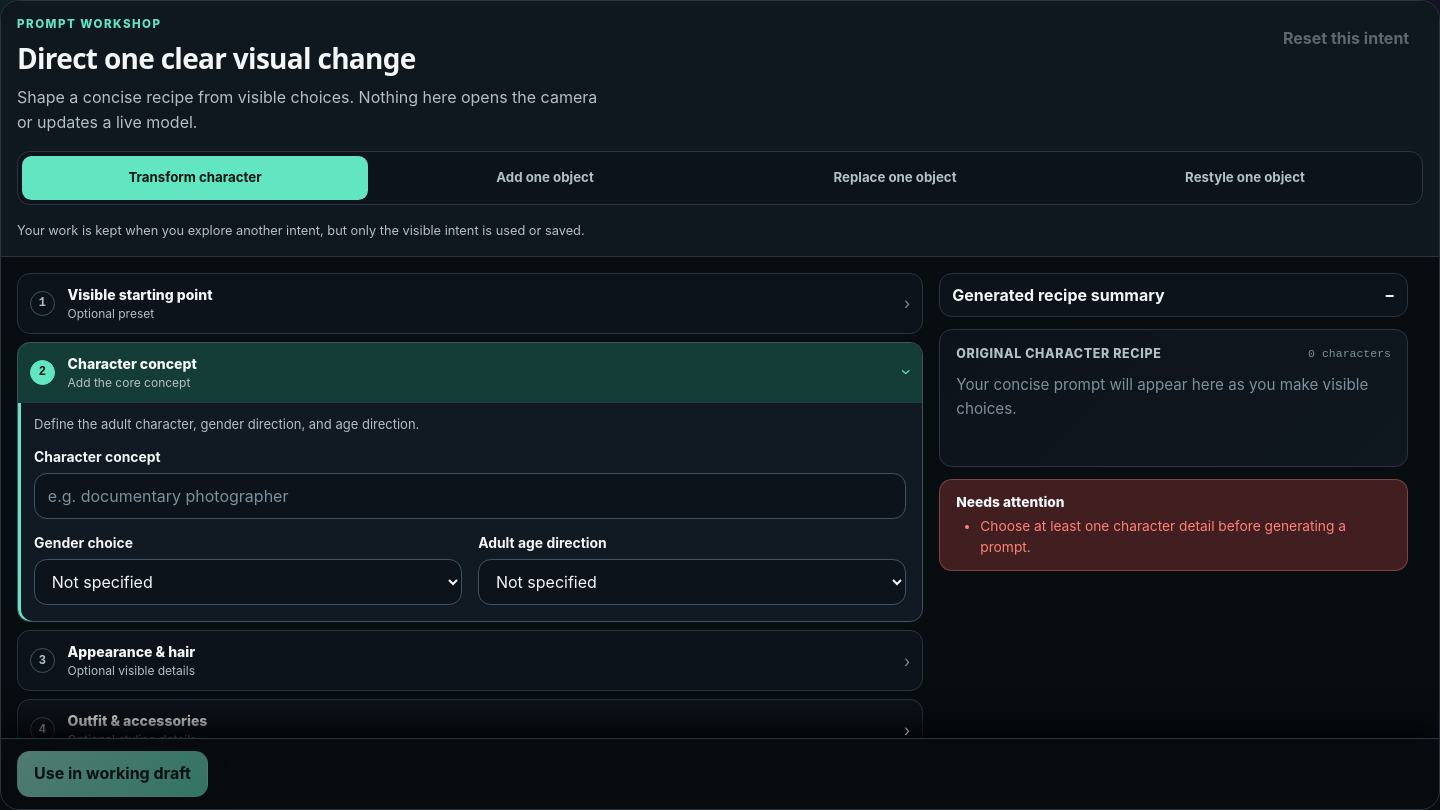
Test: CharacterPromptWorkshop › uses one accessible progressive section at a time and keeps the action footer available
The image size is (1440, 810).
Check: the field labelled "Character concept" is shown, box left=34, top=473, right=906, bottom=519
Check: the element that starts with "Visible starting point" is shown, box left=1, top=257, right=1439, bottom=738
Click the button "3 Appearance & hair Optional visible details ›" at [131, 652], box left=18, top=631, right=922, bottom=690
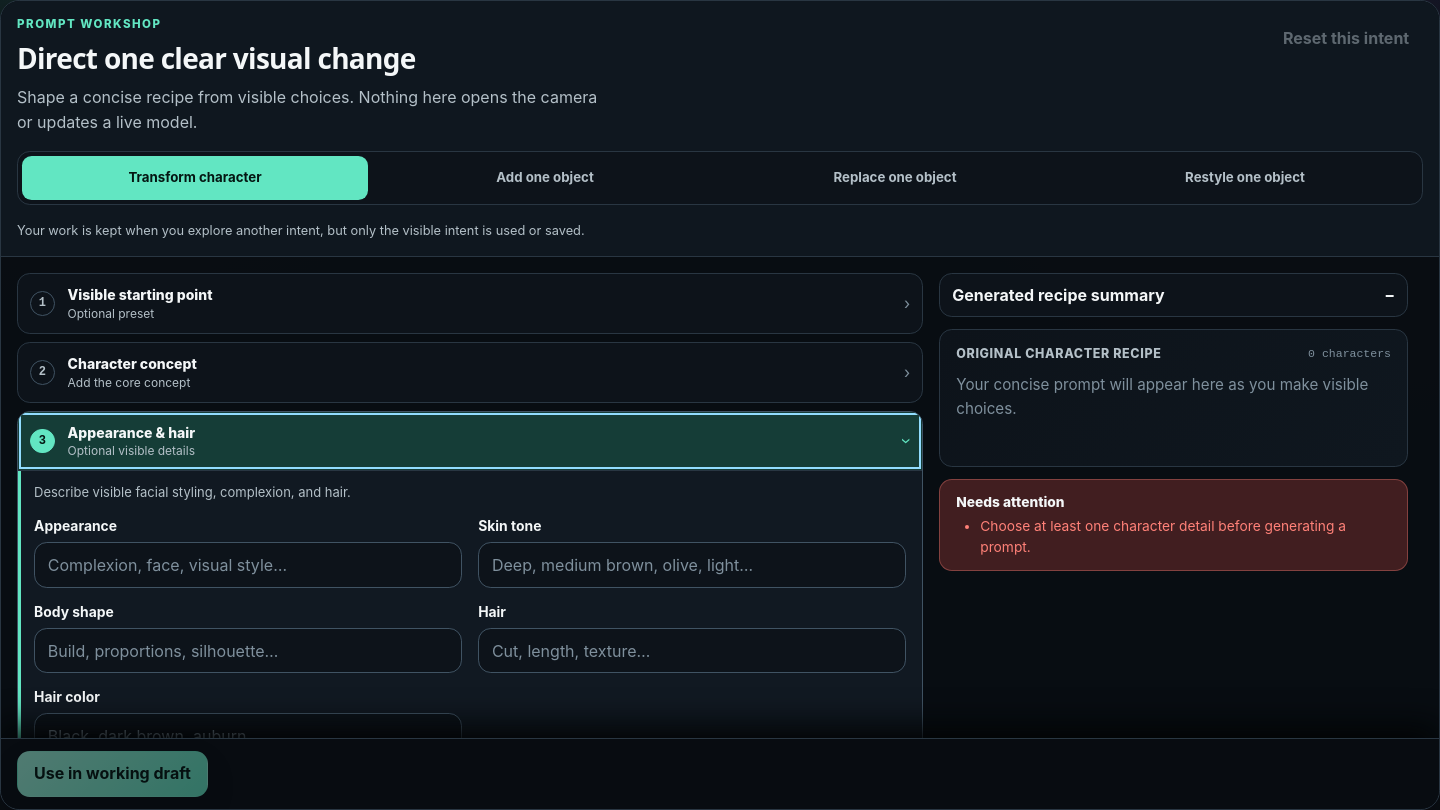
Check: the button "2 Character concept Add the core concept ›" is collapsed, box left=18, top=343, right=922, bottom=402
Check: the button "3 Appearance & hair Optional visible details ›" is expanded, box left=18, top=412, right=922, bottom=470
Check: the field labelled "Appearance" is shown, box left=34, top=542, right=462, bottom=588
